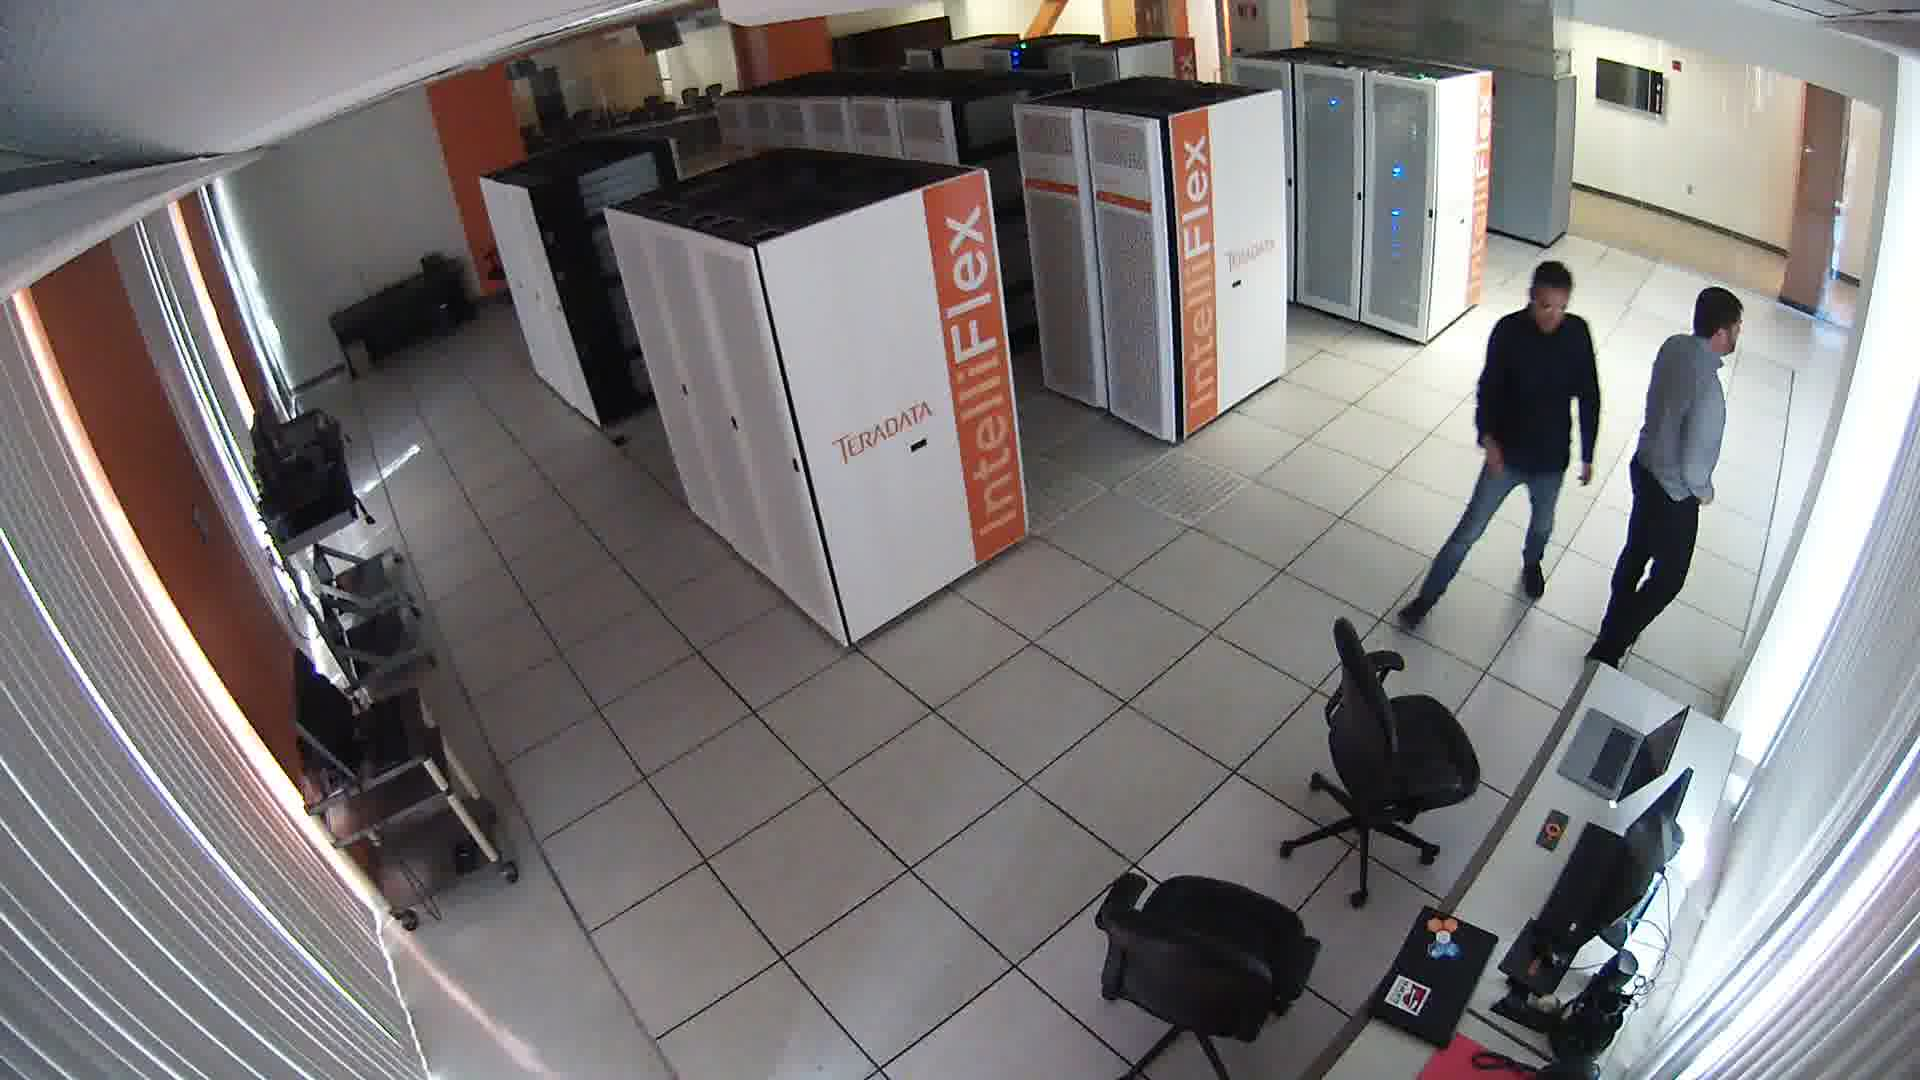person: (1403, 256, 1603, 616), (1611, 283, 1771, 692)
